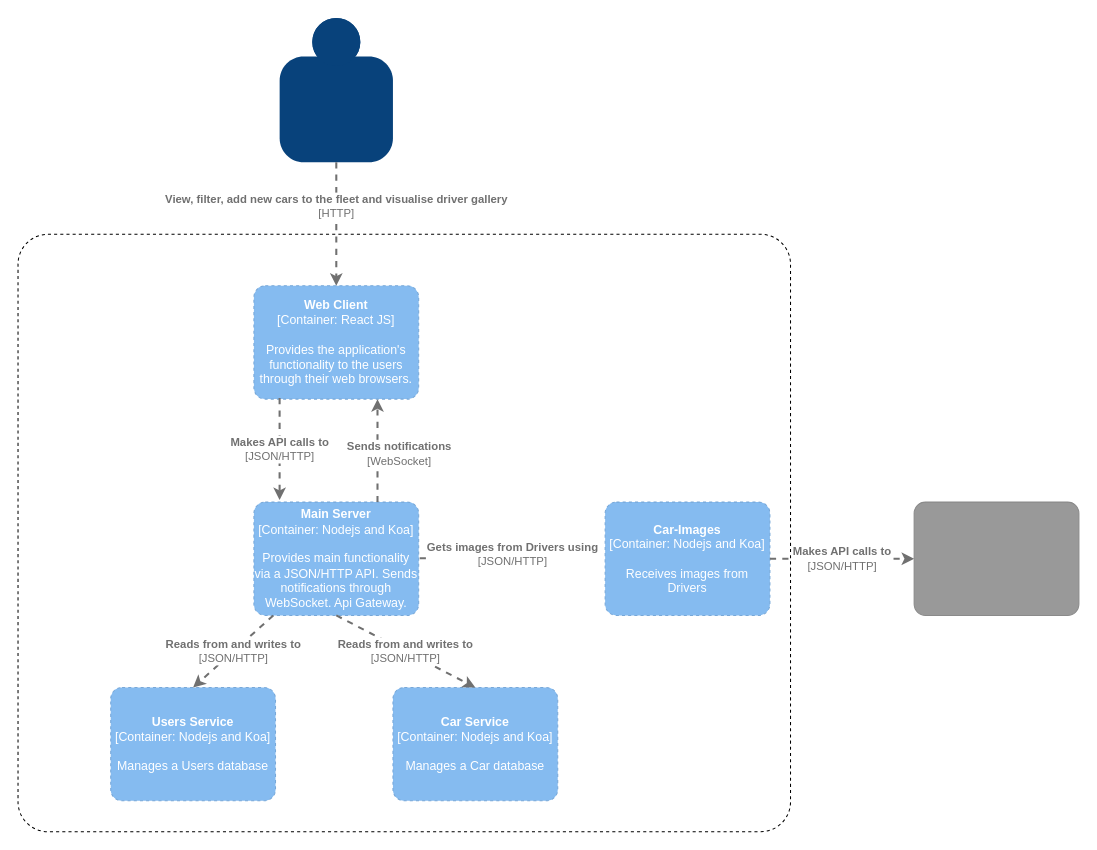
Some shapes in this 1097 by 850 pixel diagram are drawn without their labels. Each missing label, with the box of its shape:
TaxiFleet [Software System]: (17, 233, 791, 832)
Unsplash [Software System] Public API for getting TAXI drivers' photos: (913, 501, 1079, 615)
User [Person] Taxi DSP Employee: (279, 18, 392, 162)
